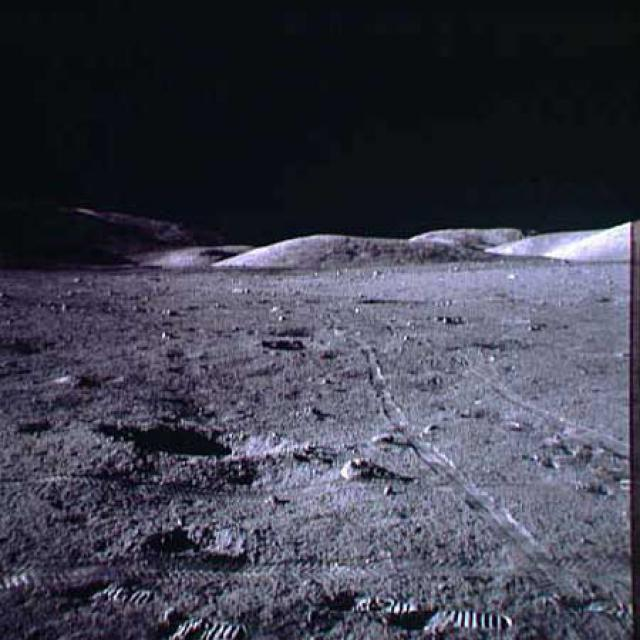crater: (110, 414, 289, 462), (0, 334, 62, 358), (351, 297, 427, 309), (258, 337, 309, 354)
rock: (341, 452, 379, 482)
